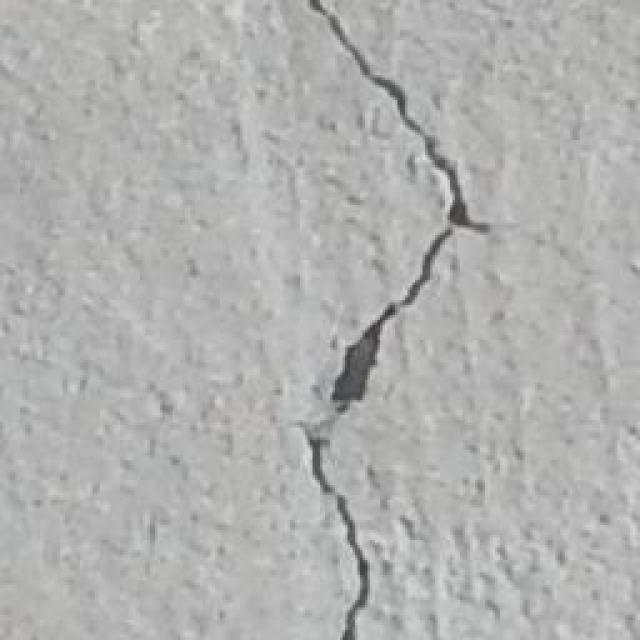concrete-crack: (306, 4, 490, 640)
